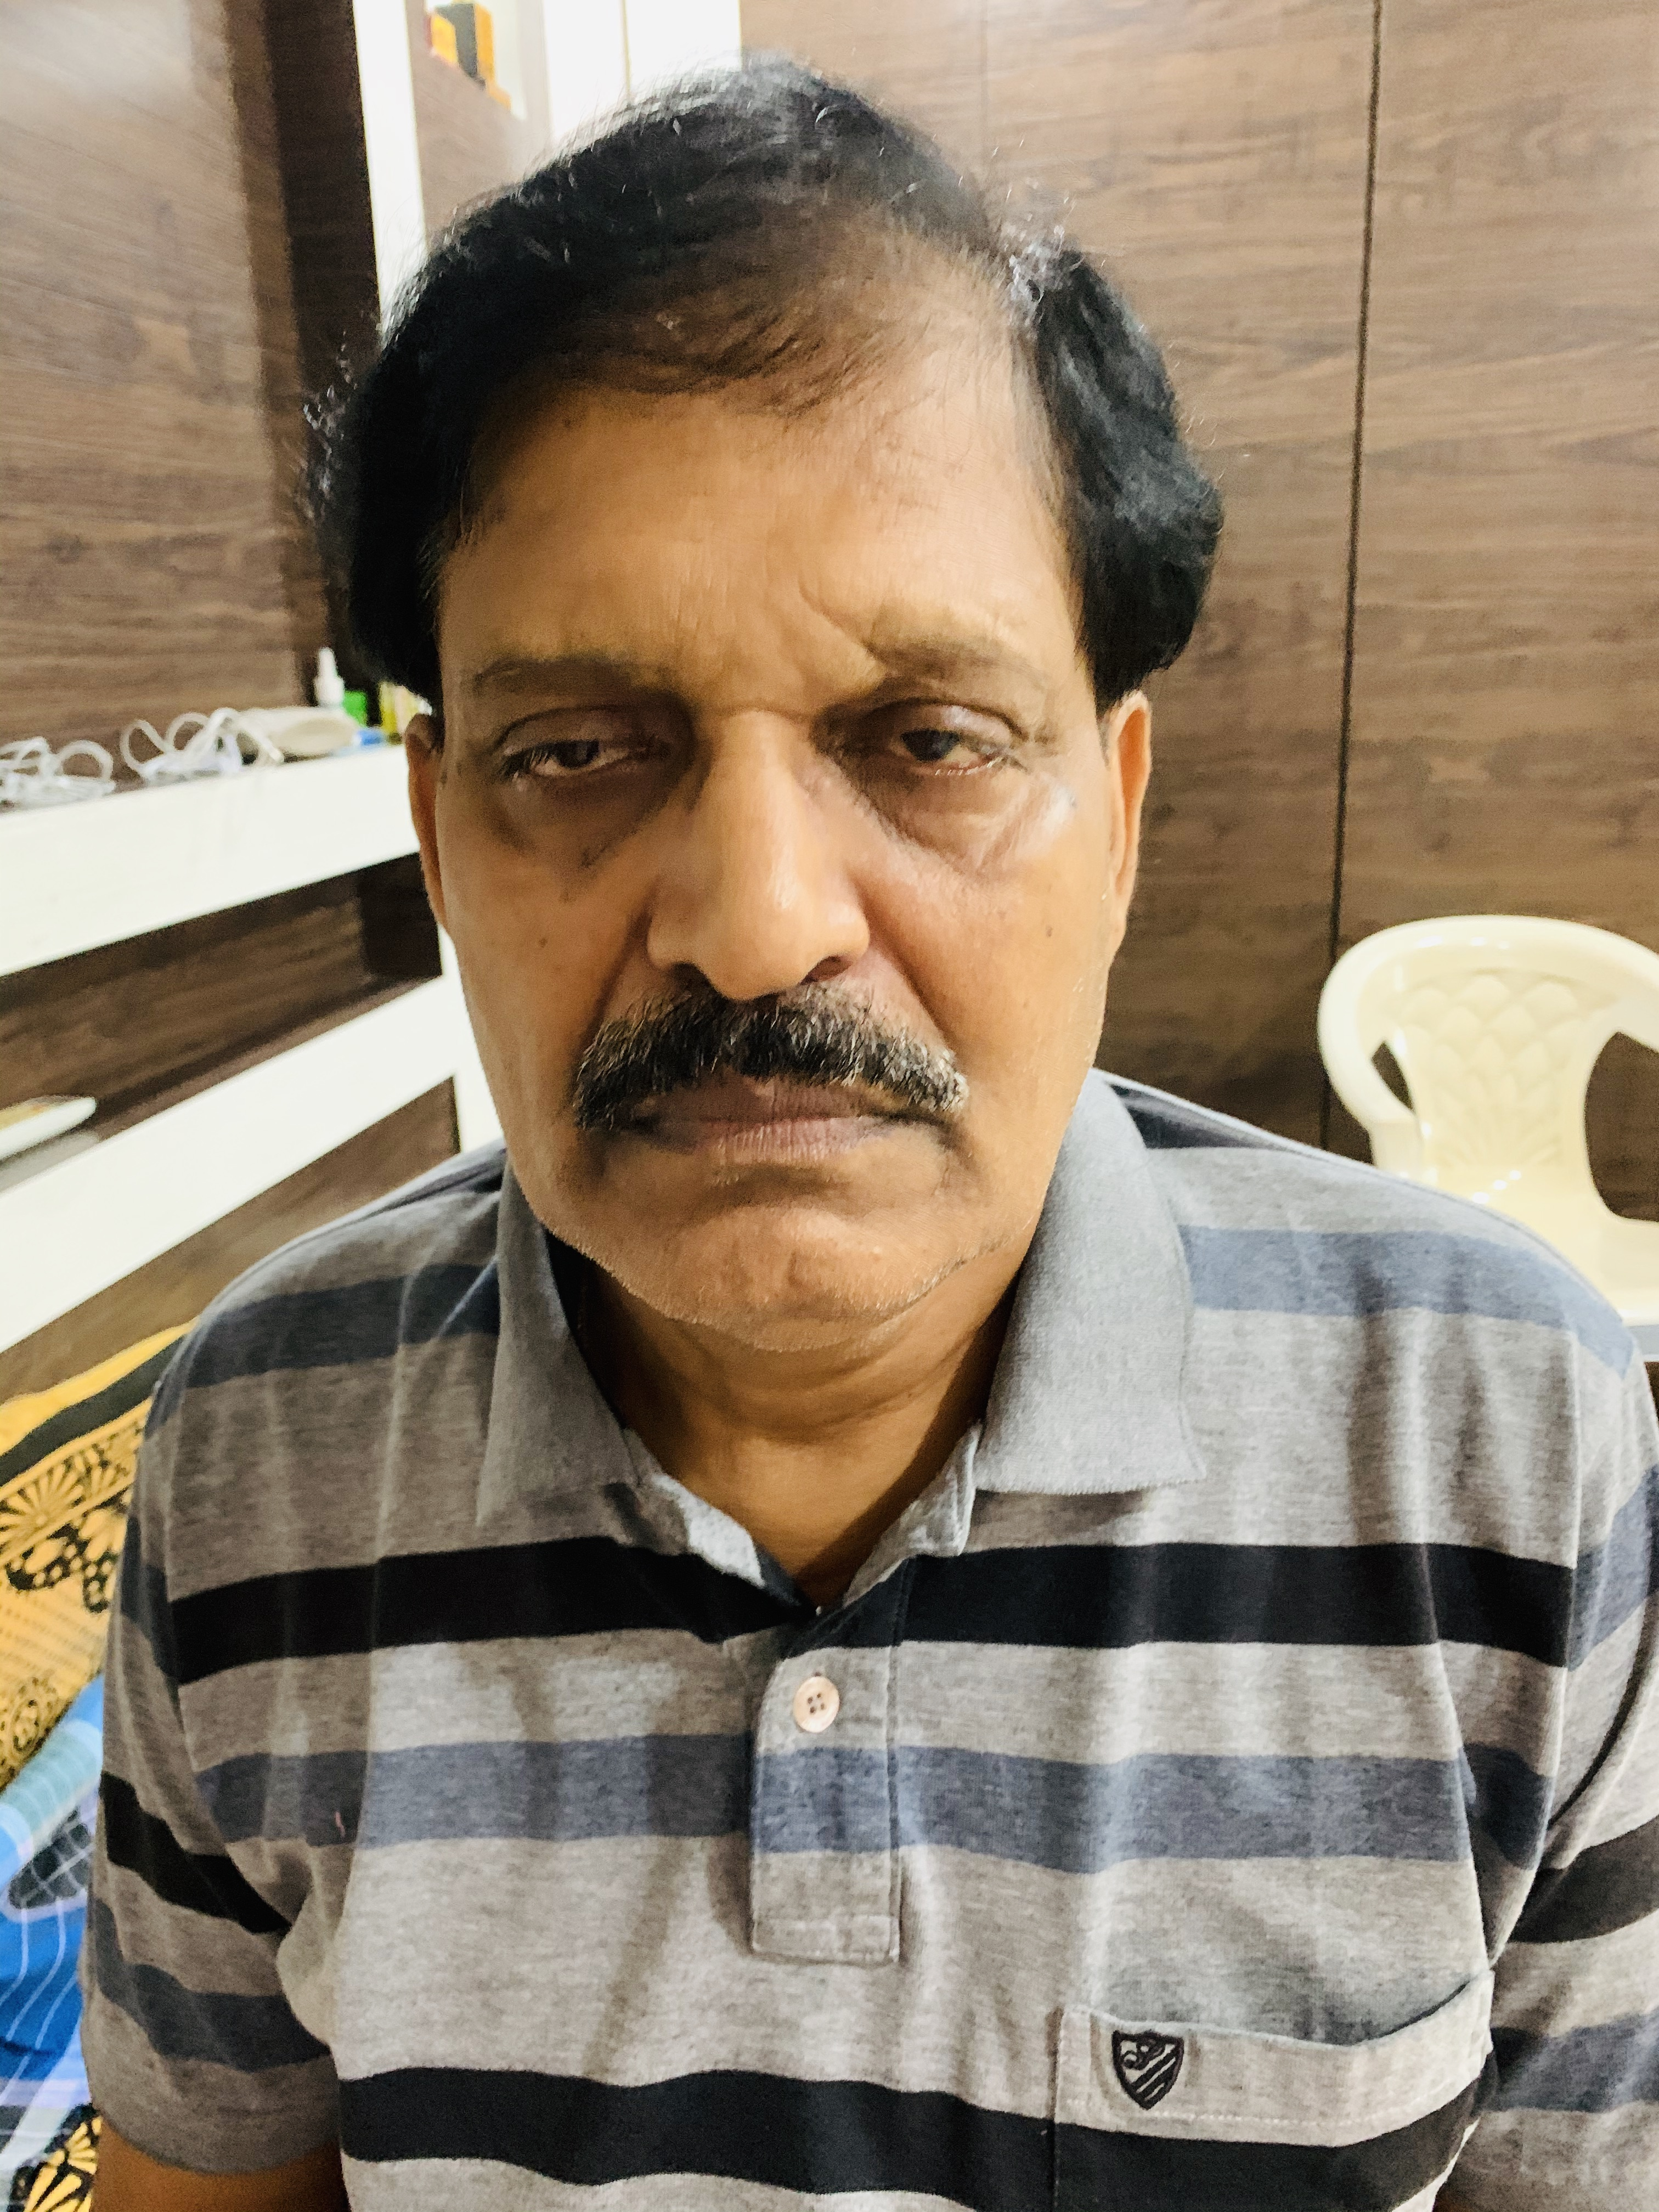Half Asleep: (434, 693, 1080, 826)
